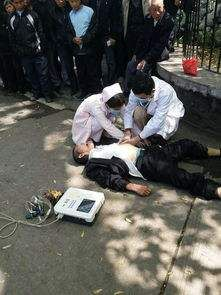10+: (1, 1, 217, 209)
down: (65, 126, 221, 205)
